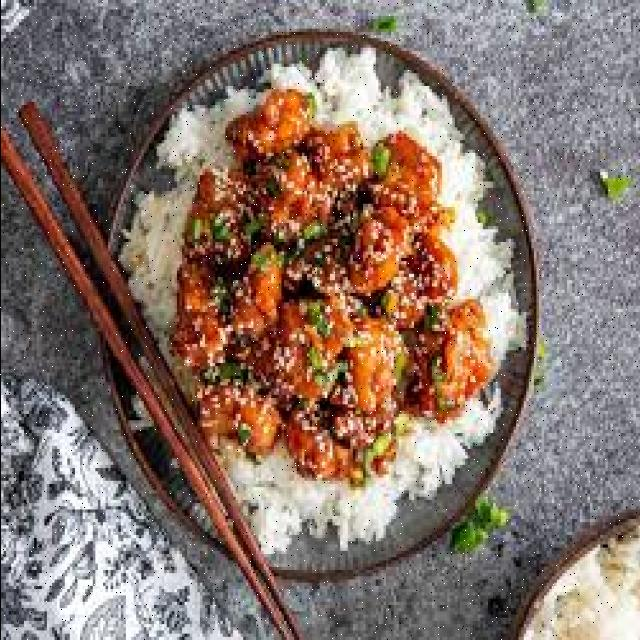Chicken: (173, 89, 492, 487)
Rice: (260, 48, 525, 369), (219, 388, 500, 551), (120, 86, 268, 373)
